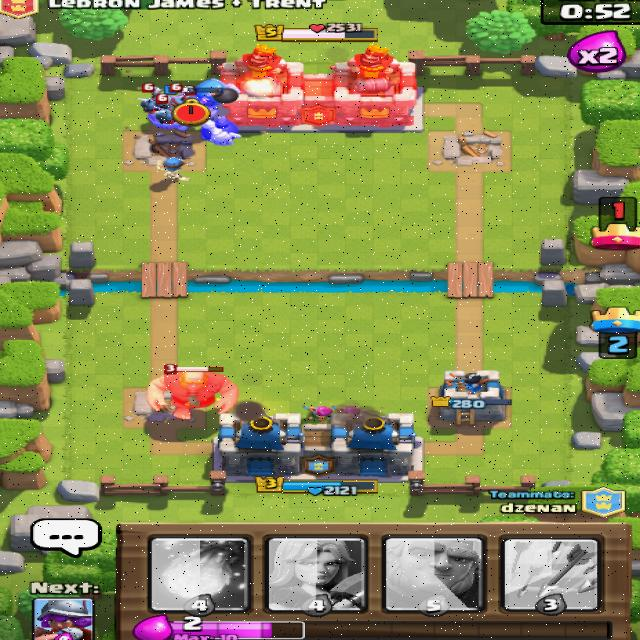Enemy-Giant: (144, 363, 238, 421)
Enemy-Minion: (134, 82, 164, 113), (153, 92, 178, 124), (166, 83, 186, 106)
Player-Archer: (300, 402, 332, 422), (330, 403, 361, 415)
Player-Bomber: (153, 156, 190, 184)
Player-GiantSkeleton: (145, 77, 241, 146)
